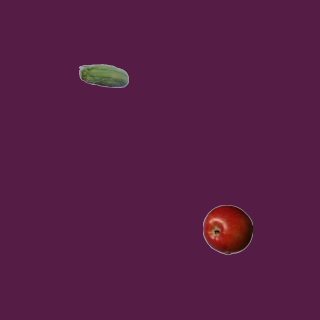Apple Braeburn: (202, 204, 252, 254)
Corn Husk: (78, 52, 128, 102)
